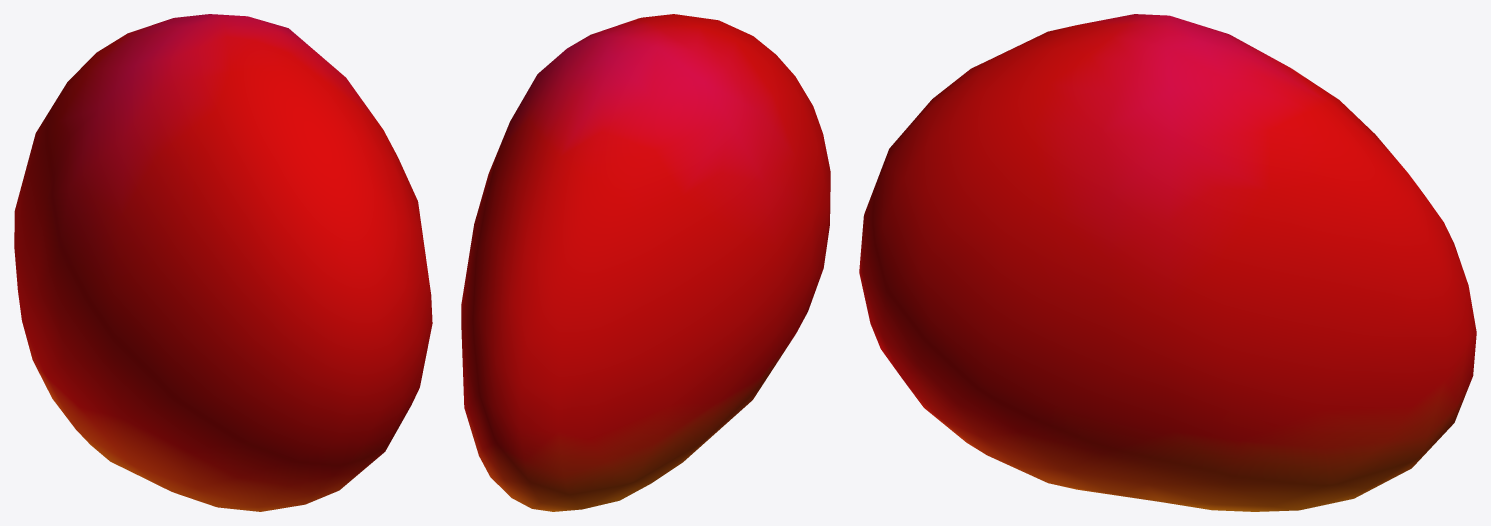
File: GXR_TAIL_01_STANDARD.glb
The picture shows the model from 3 angles, left to right: view 1: azimuth 30°, elevation 25°; view 2: azimuth 150°, elevation 25°; view 3: azimuth 270°, elevation 25°; orthographic projection. The views are drawn at different scales.
Visible parts, largest first — view 1: Mesh_Tail_standard; view 2: Mesh_Tail_standard; view 3: Mesh_Tail_standard.
Boxes of the visible parts, box(x1,y1,x2,y2) form: Mesh_Tail_standard: box(14, 14, 432, 511); Mesh_Tail_standard: box(461, 14, 830, 511); Mesh_Tail_standard: box(859, 14, 1476, 511).
Size of the model in its own units: 0.1446 by 0.2078 by 0.244.
